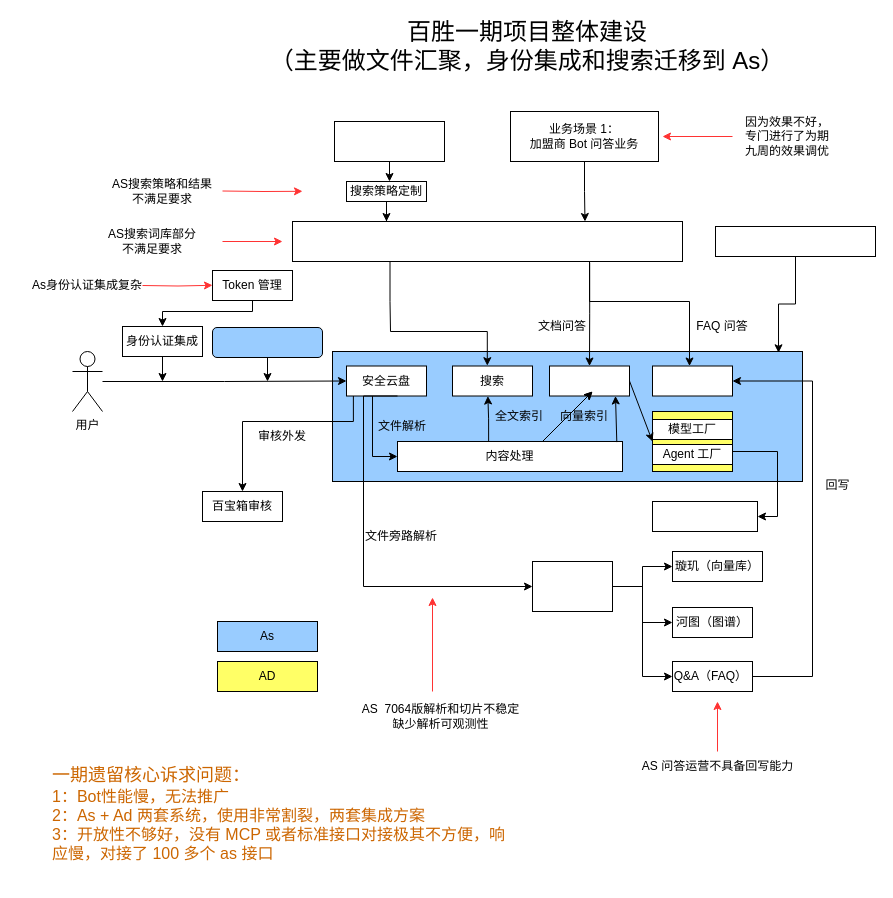
Some shapes in this 893 by 898 pixel diagram are drawn without their labels. The centre of each missing label's shape, as x and y in pixels:
"As Bot" goes at (x=589, y=380).
"夜莺（健康度监控）" goes at (x=795, y=241).
"文件上传安全管控（工作流）" goes at (x=267, y=342).
"玉简（同义词、 专业词）" goes at (x=487, y=241).
"百炼（大小模型）" goes at (x=705, y=516).
"百胜EB （消息系统）" goes at (x=572, y=586).
"百胜睿搜" goes at (x=389, y=141).
"知识中心" goes at (x=692, y=380).
